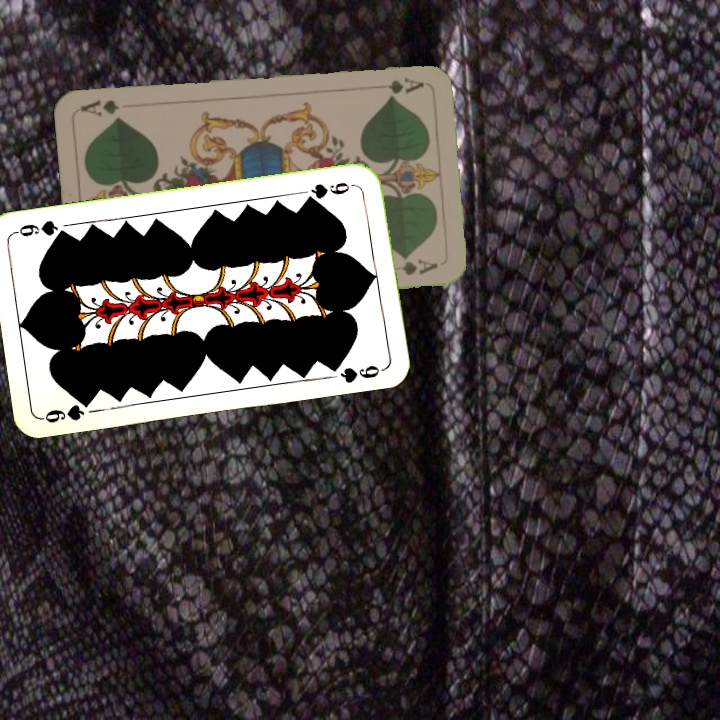G9: (38, 394, 96, 426), (301, 178, 358, 203)
GA: (367, 74, 427, 96)
